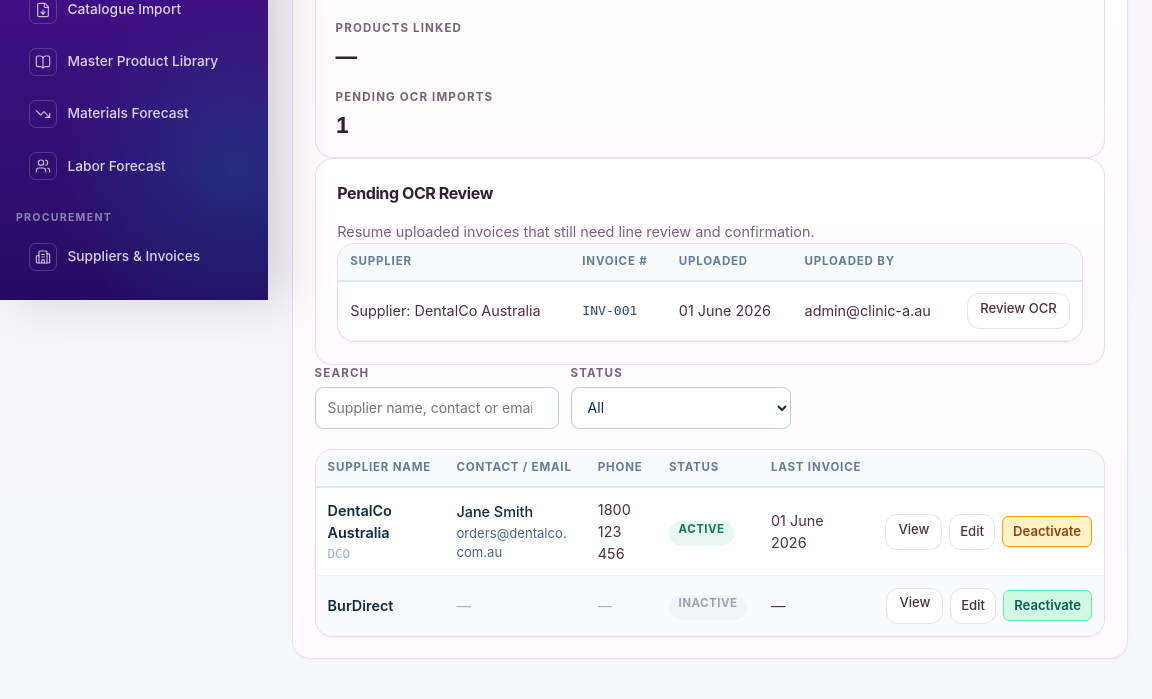
SuppliersPage › filters suppliers by active status
(page scrolled)
Expected: the text "DentalCo Australia" is shown, [328, 502, 392, 541]
Select "Active only" in the dropdown showing "All" at (681, 408), box [571, 387, 791, 429]
(page scrolled)
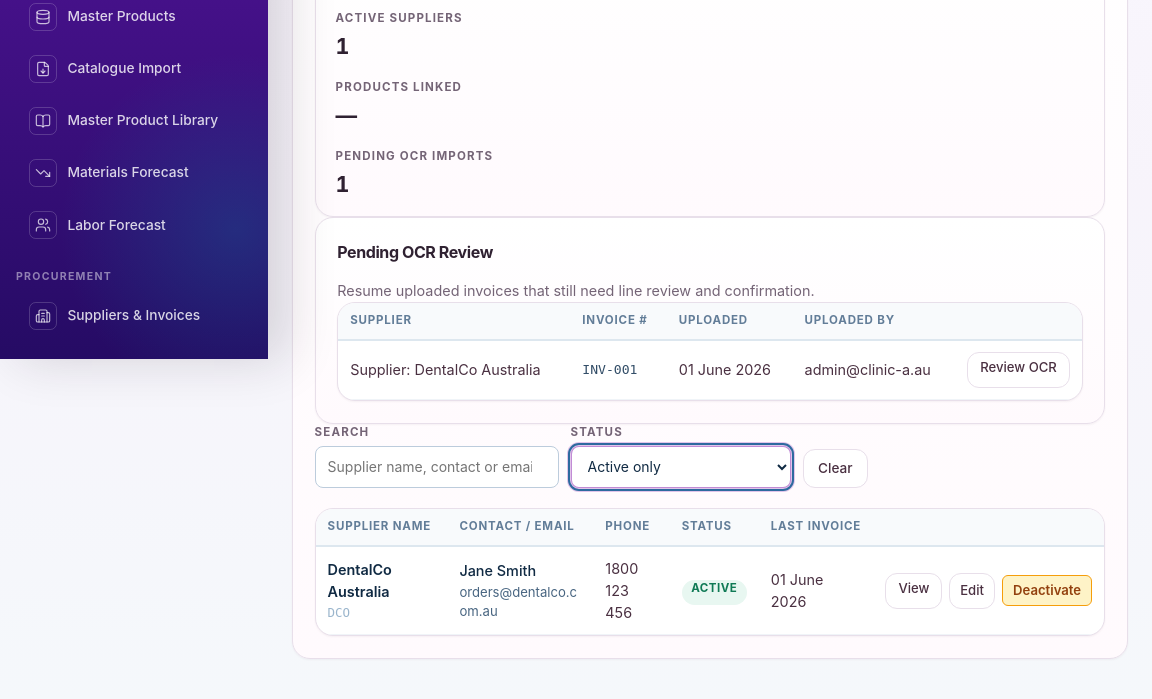
Expected: the text "DentalCo Australia" is shown, [328, 561, 392, 600]
Expected: the text "BurDirect" is gone
